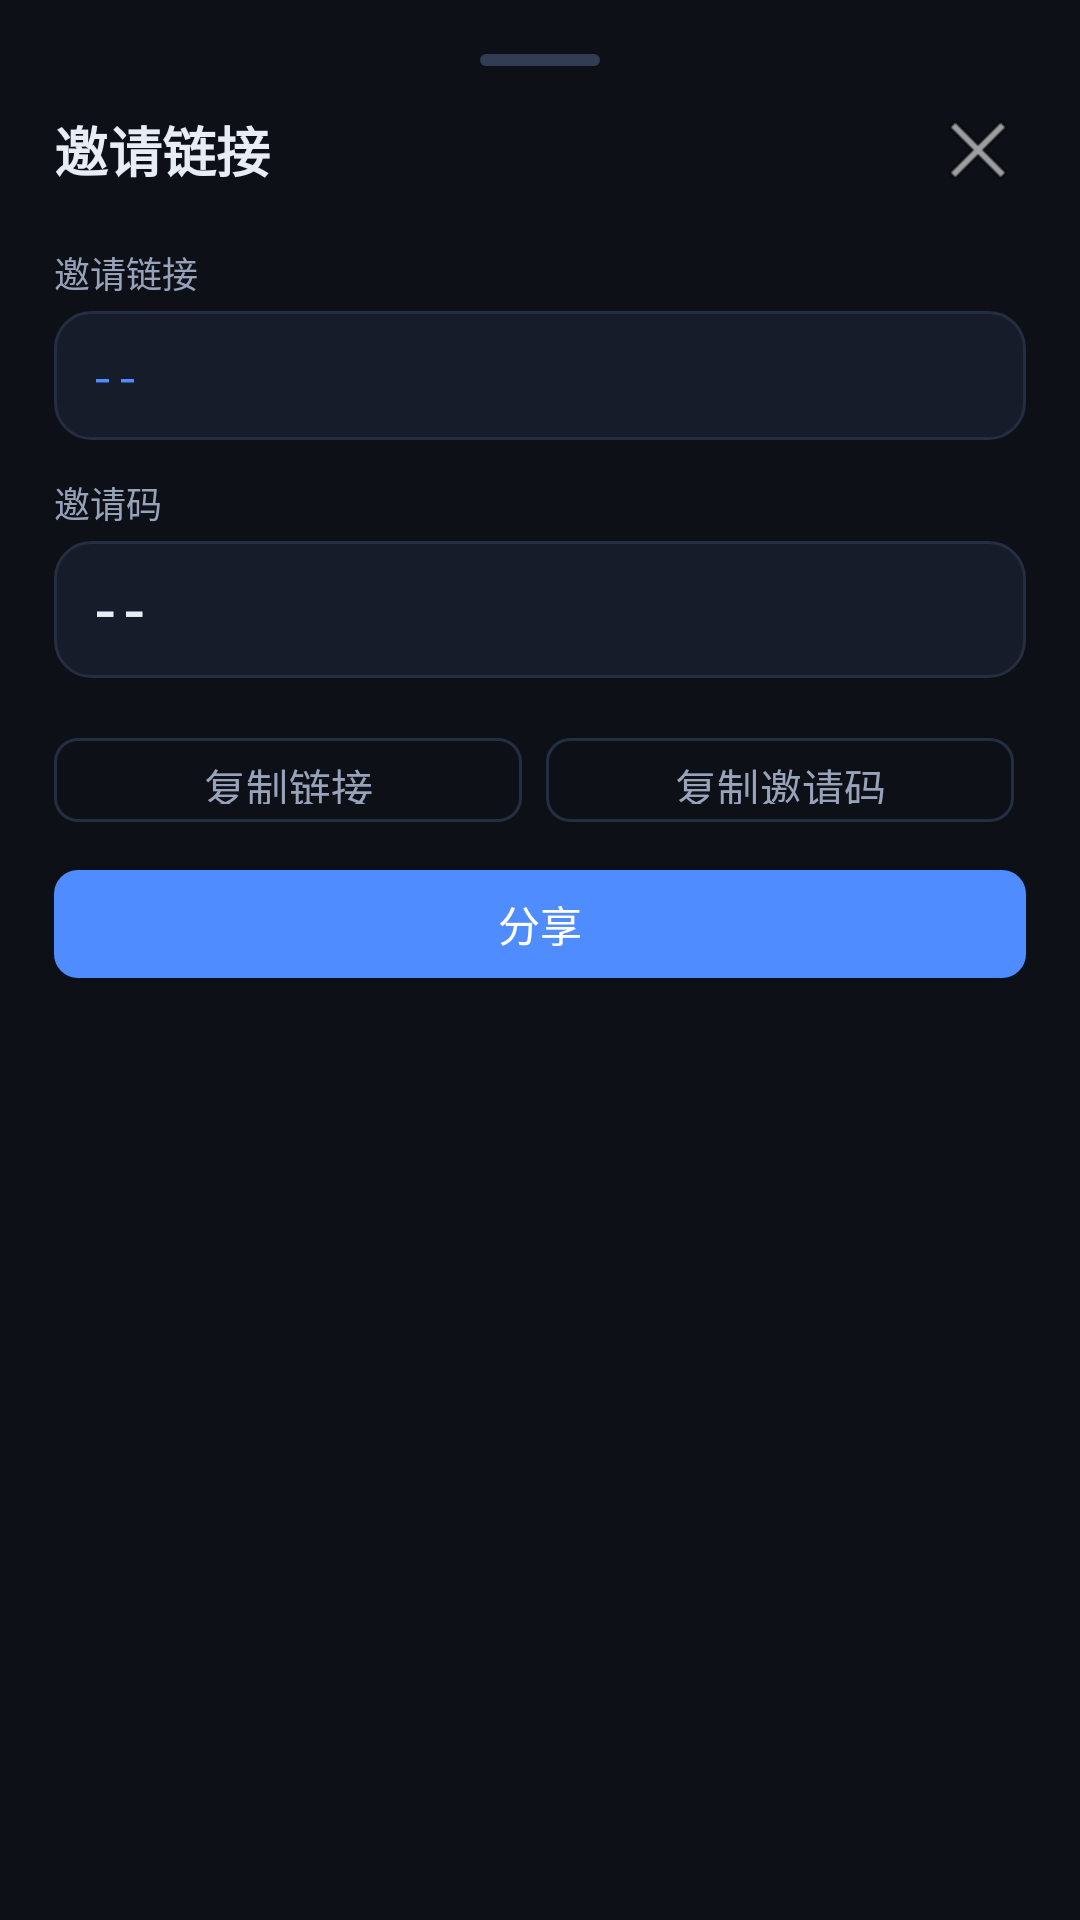

Named icons in this screenshot (1080px×1920px) and their bounding boxes, (x1, y1, x2, y2):
关闭: (951, 123, 1005, 177)
